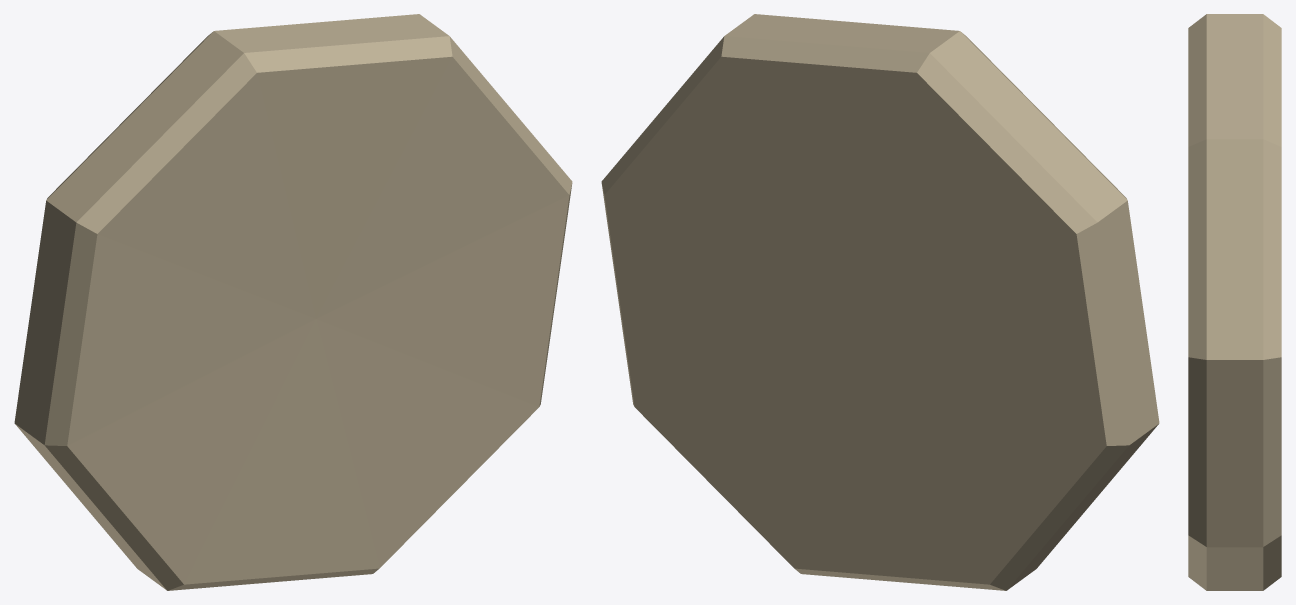
Rendered from turkeyPatty.glb.
The picture shows the model from 3 angles, left to right: view 1: azimuth 30°, elevation 25°; view 2: azimuth 150°, elevation 25°; view 3: azimuth 270°, elevation 25°; orthographic projection. The views are drawn at different scales.
Visible parts, largest first — view 1: buffer_0_mesh_0_prim4.545; view 2: buffer_0_mesh_0_prim4.545; view 3: buffer_0_mesh_0_prim4.545.
Boxes of the visible parts, bbox=[...] form: buffer_0_mesh_0_prim4.545: bbox=[14, 14, 572, 590]; buffer_0_mesh_0_prim4.545: bbox=[601, 14, 1159, 590]; buffer_0_mesh_0_prim4.545: bbox=[1188, 14, 1281, 590].
Bounding box in the file's own units: 1.16 × 1.16 × 0.1893.
